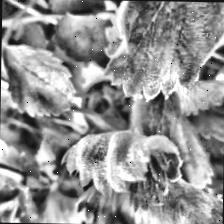Powdery Mildew Leaf: (100, 0, 224, 102), (60, 128, 184, 214)
